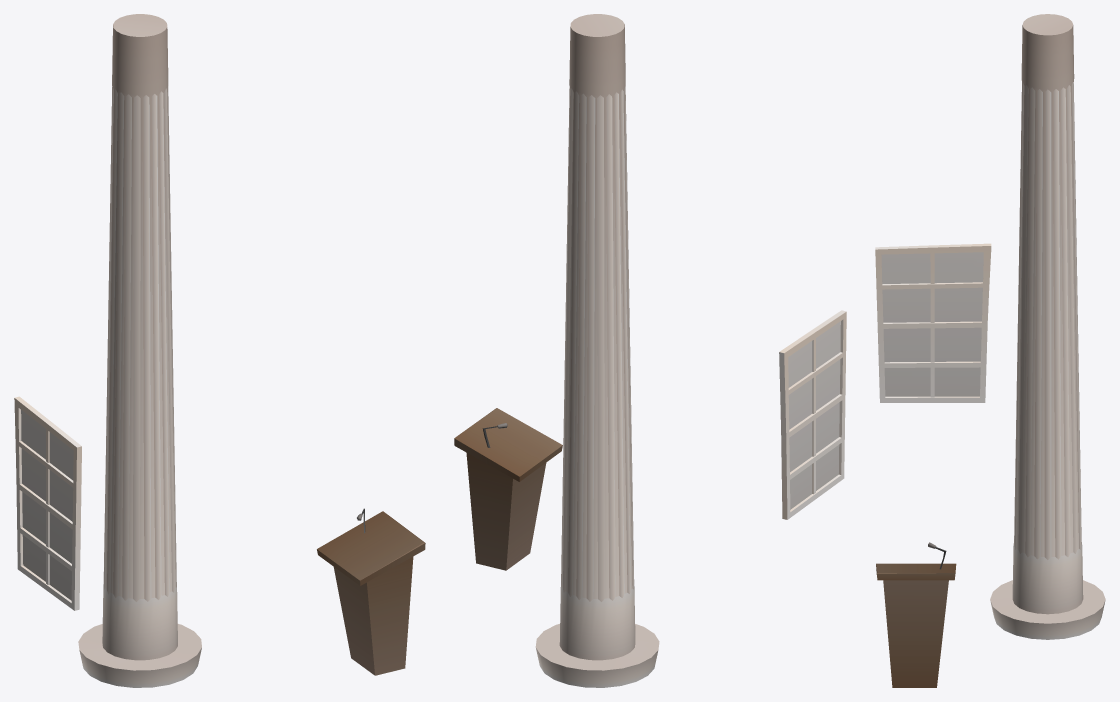
File: Scene1_props.fbx
The picture shows the model from 3 angles, left to right: view 1: azimuth 30°, elevation 25°; view 2: azimuth 150°, elevation 25°; view 3: azimuth 270°, elevation 25°; orthographic projection. The views are drawn at different scales.
Parts seen in each view (by area): view 1: Column, Window, political_desk; view 2: Column, Window, political_desk; view 3: Column, Window, political_desk.
Part boxes in pixels (bbox=[...]): Column: bbox=[78, 14, 201, 687]; Window: bbox=[14, 396, 81, 610]; political_desk: bbox=[317, 508, 425, 675]; Column: bbox=[535, 14, 659, 687]; Window: bbox=[779, 310, 846, 519]; political_desk: bbox=[454, 408, 562, 570]; Column: bbox=[990, 14, 1105, 639]; Window: bbox=[875, 243, 991, 402]; political_desk: bbox=[876, 542, 956, 687].
Bounding box in the file's own units: 6.95 × 12.12 × 4.27.
